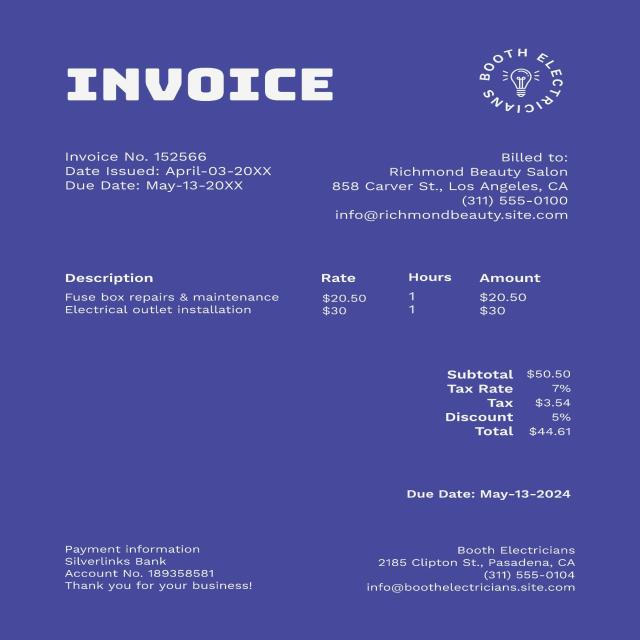paragraph: (323, 146, 582, 220), (364, 536, 585, 598), (57, 142, 280, 202), (59, 64, 336, 109), (435, 362, 590, 442), (58, 539, 262, 597), (474, 41, 567, 114), (402, 484, 586, 503)
table: (56, 266, 546, 322)
